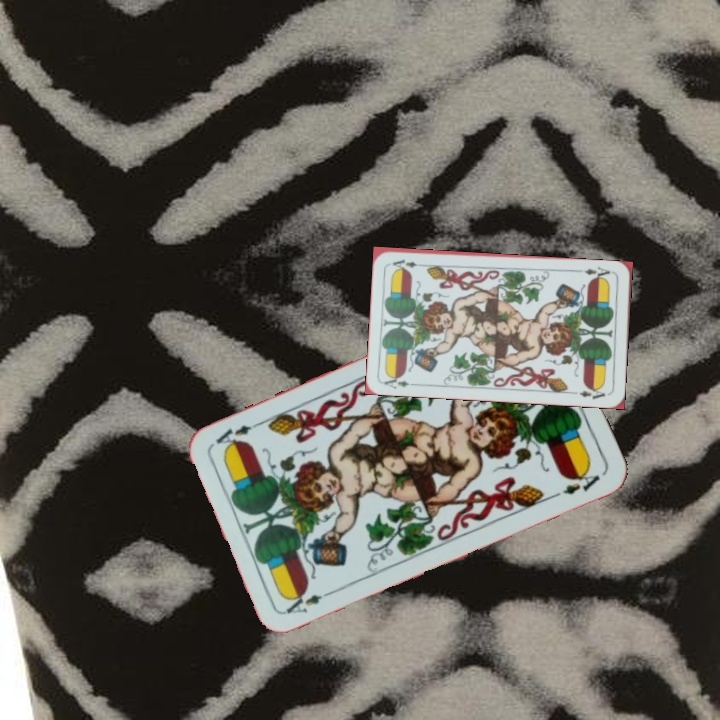EA: (281, 585, 338, 617), (380, 371, 421, 391), (580, 262, 616, 283)
